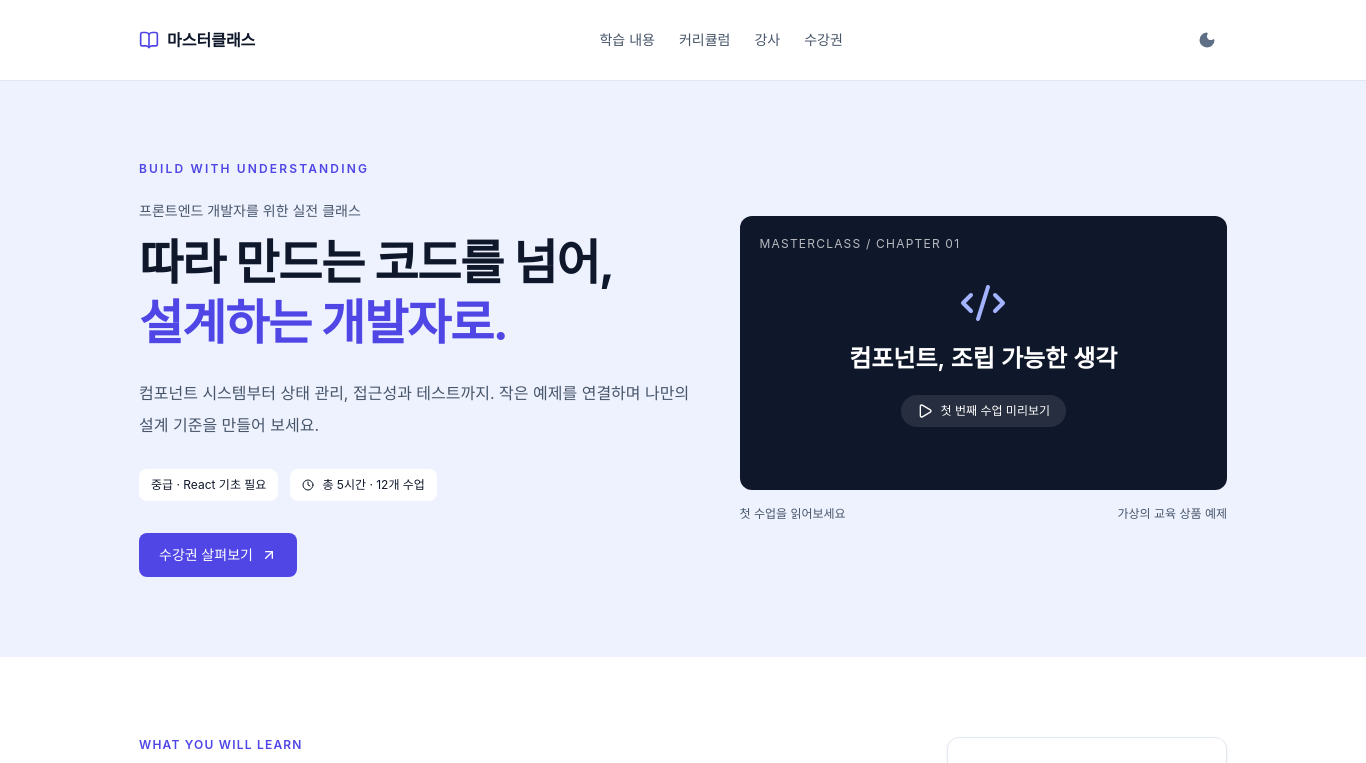
Test: 강의 미리보기와 커리큘럼, 선택한 수강권 내용을 제공한다
What coordinates should you click on to do the following:
click the button with aria-label "강의 미리보기 열기"
I would click on:
 (983, 353)
Its box is [740,216,1227,490].
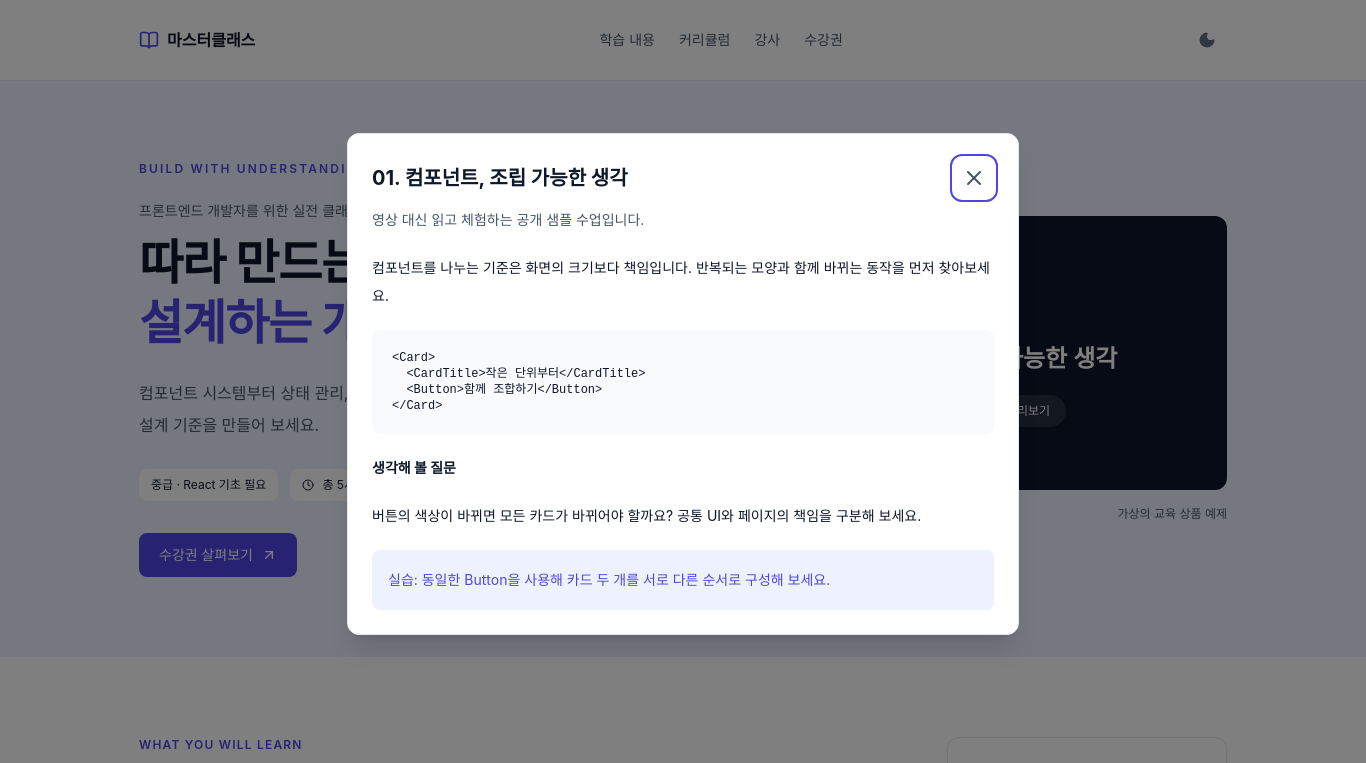
expect the dialog shows "생각해 볼 질문": met, box [372,459,456,476]
What coordinates should you click on to do the following:
click the button named "미리보기 닫기"
I would click on:
 (974, 178)
Its box is [954,158,994,198].
(page scrolled)
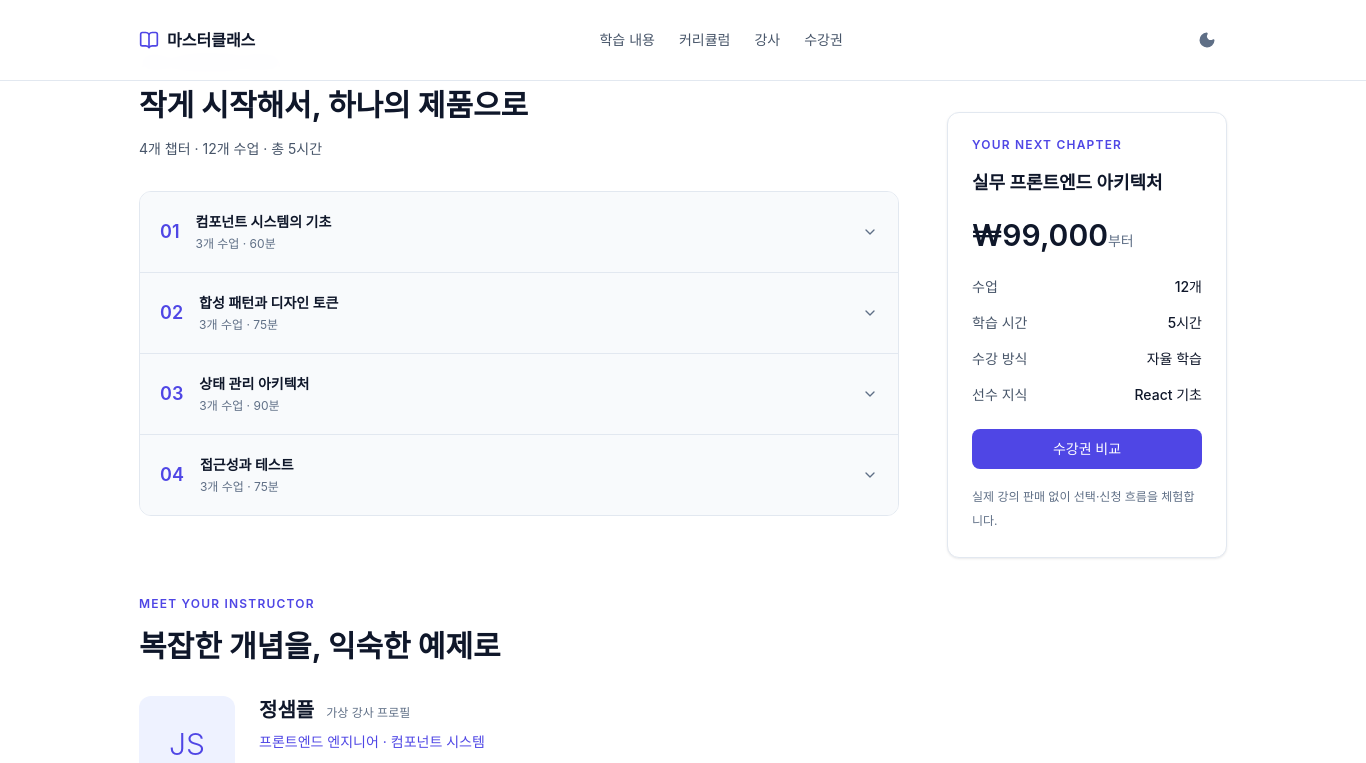
What coordinates should you click on to do the following:
click the text "상태 관리 아키텍처"
I would click on:
 (254, 384)
Its box is [199,375,309,392].
(page scrolled)
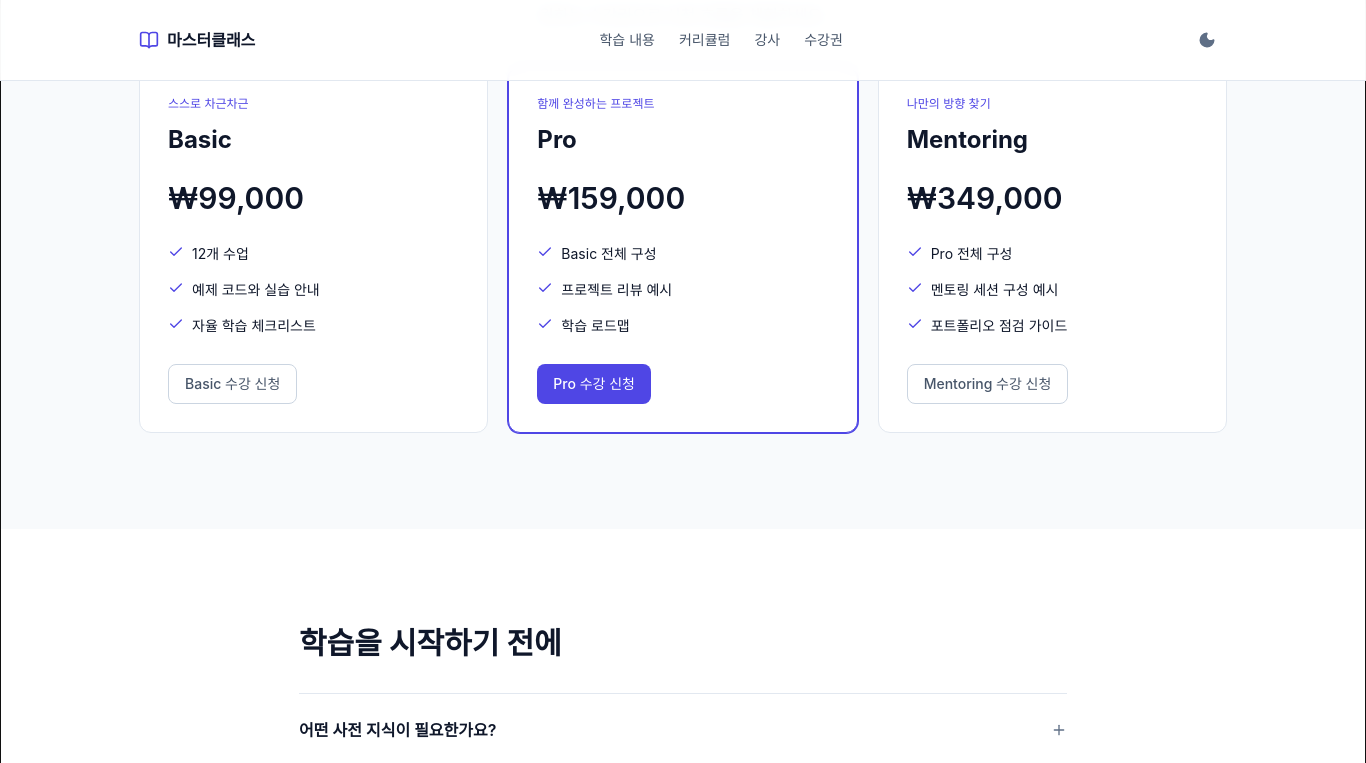
What coordinates should you click on to do the following:
click the button "Pro 수강 신청"
I would click on:
 (594, 384)
Its box is [537,364,651,404].
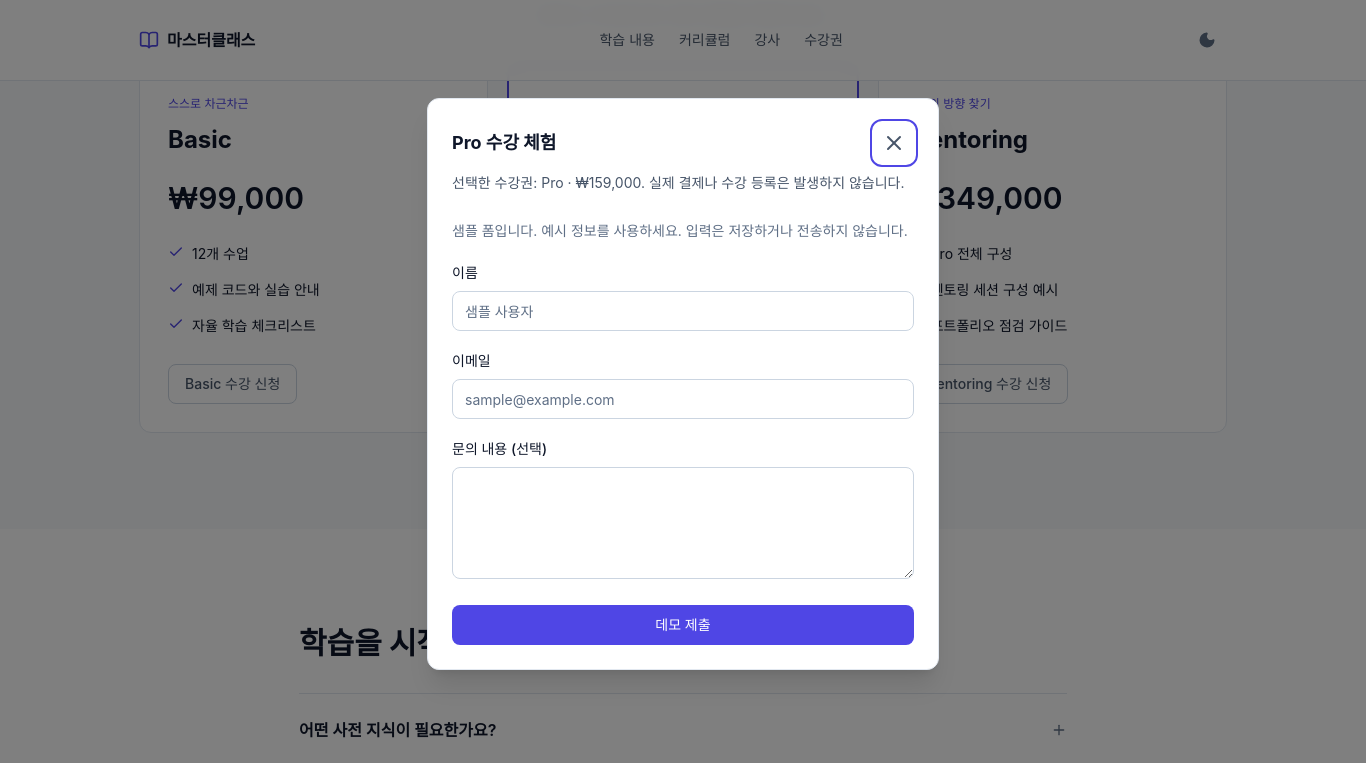
expect the dialog shows "선택한 수강권: Pro · ₩159,000": met, box [452,174,904,191]
